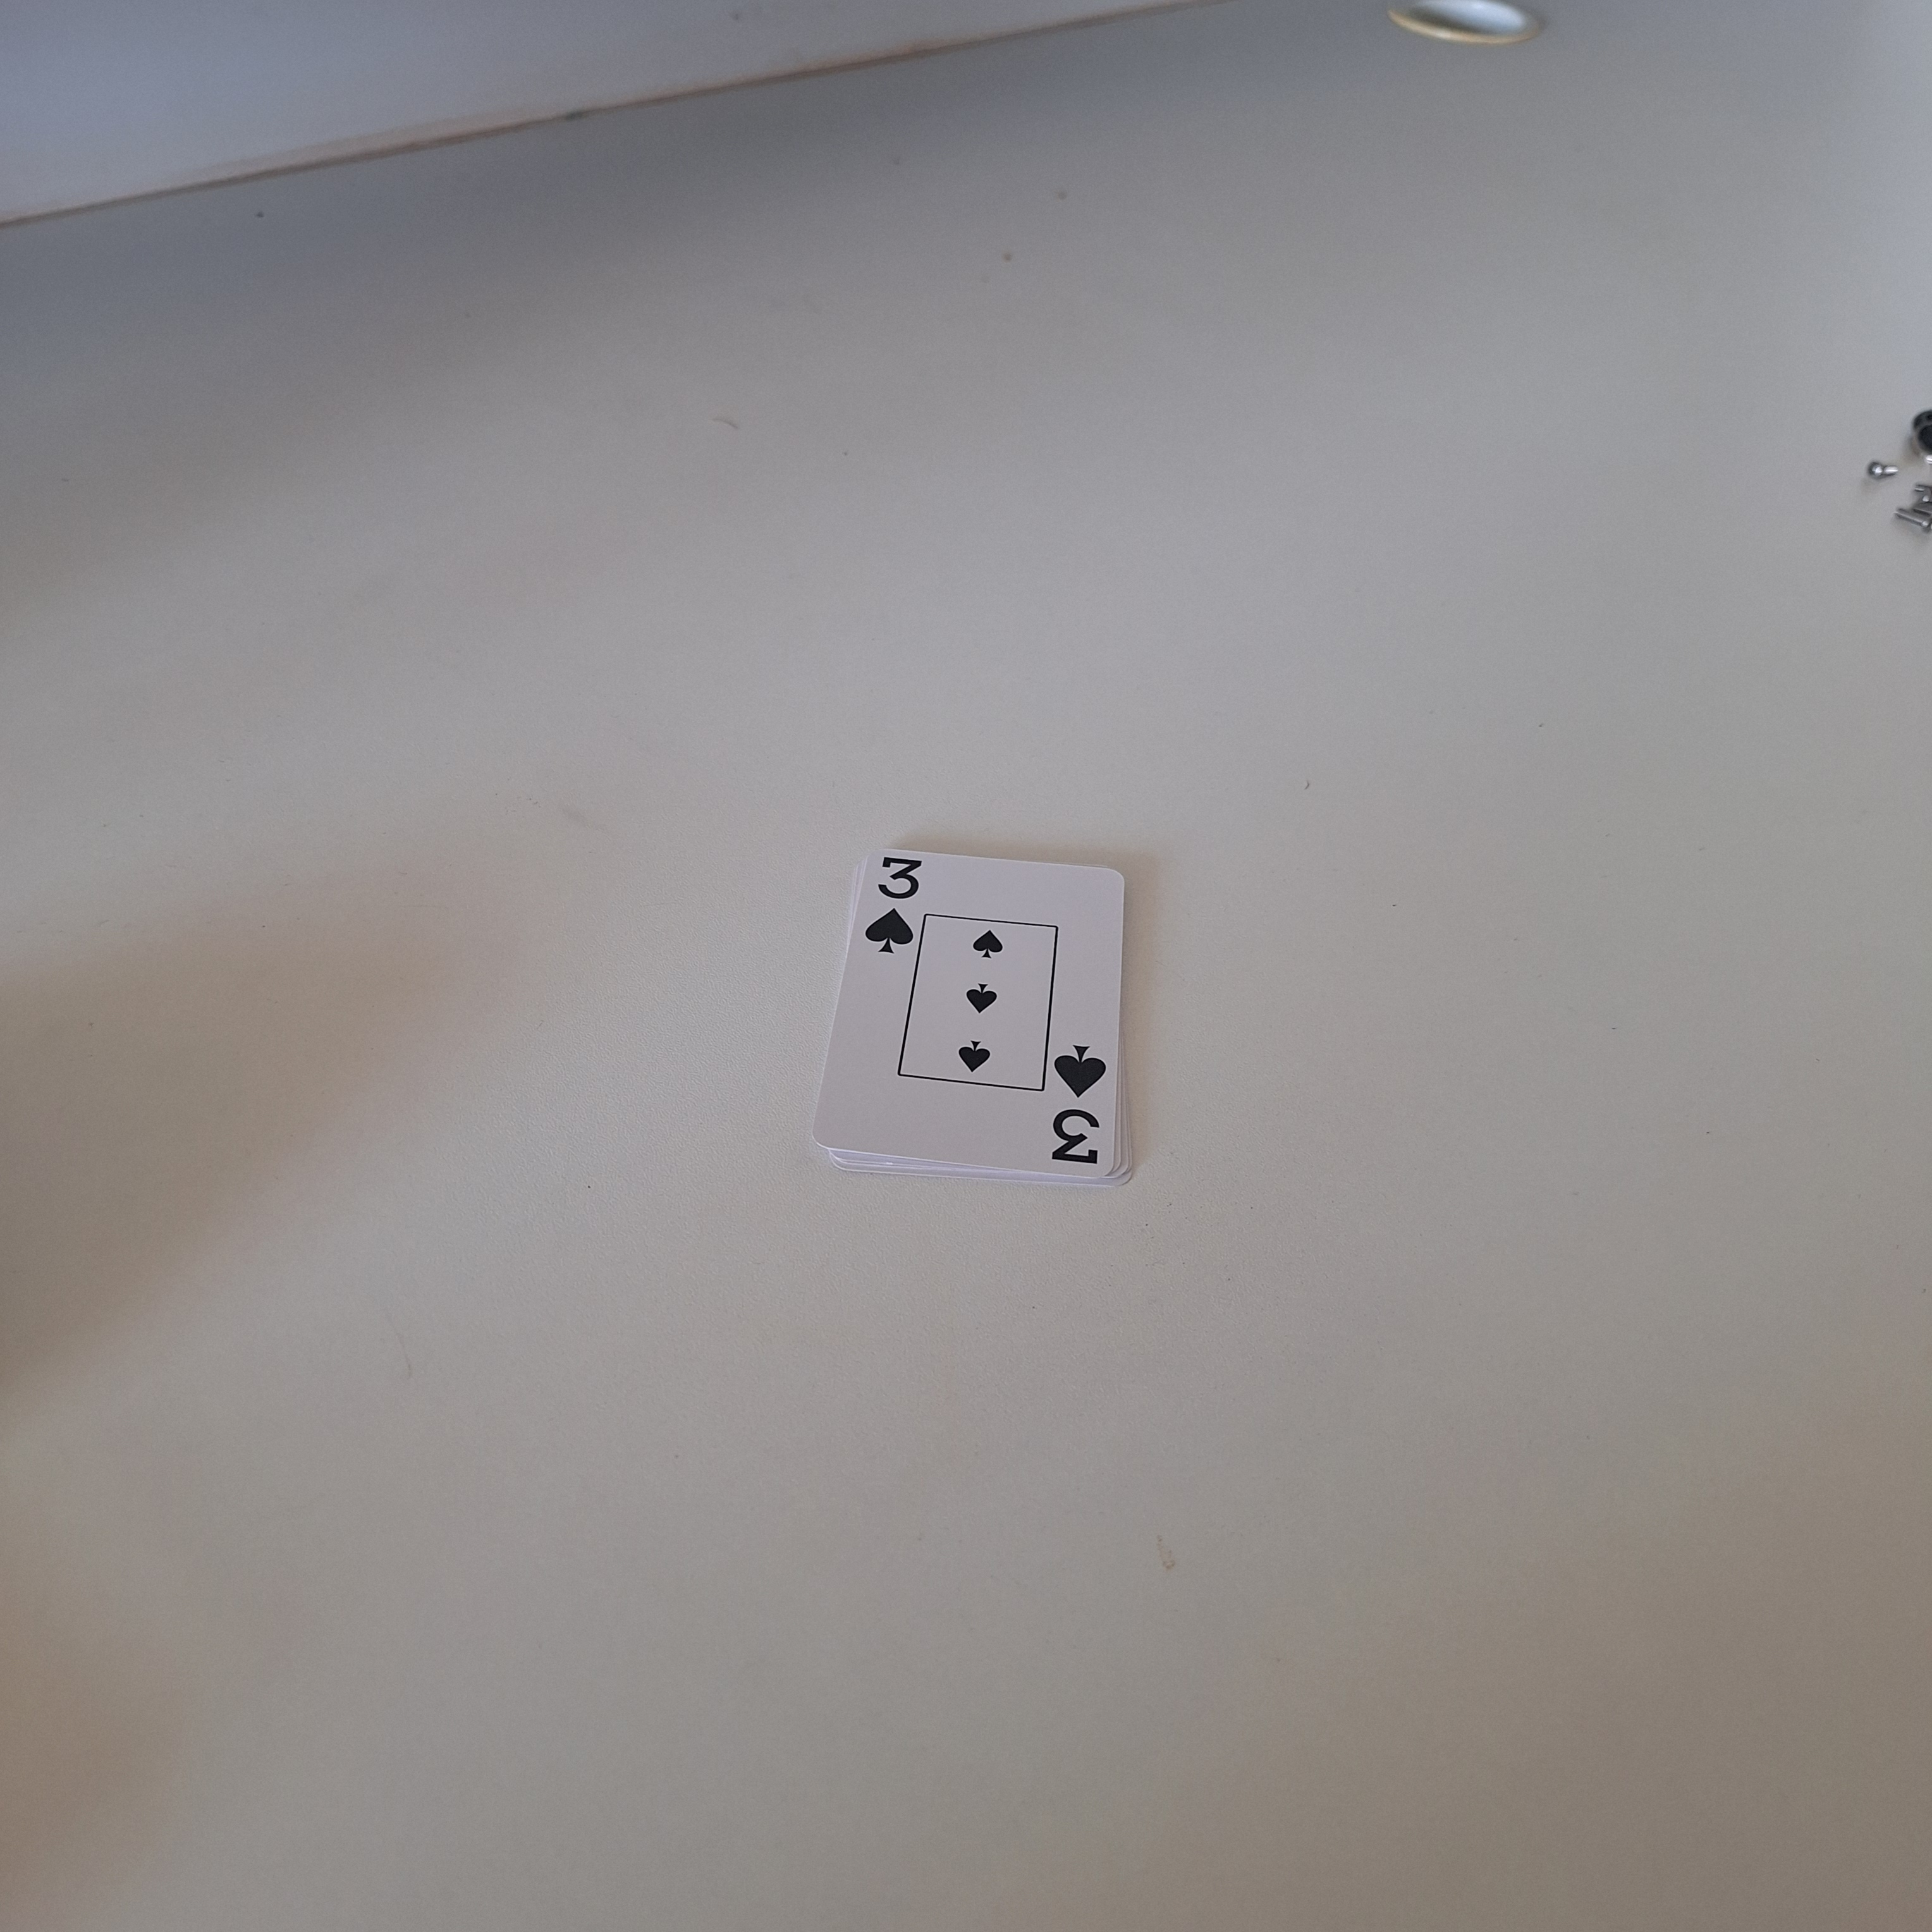3E: (1044, 1035, 1123, 1182), (855, 849, 931, 957)
